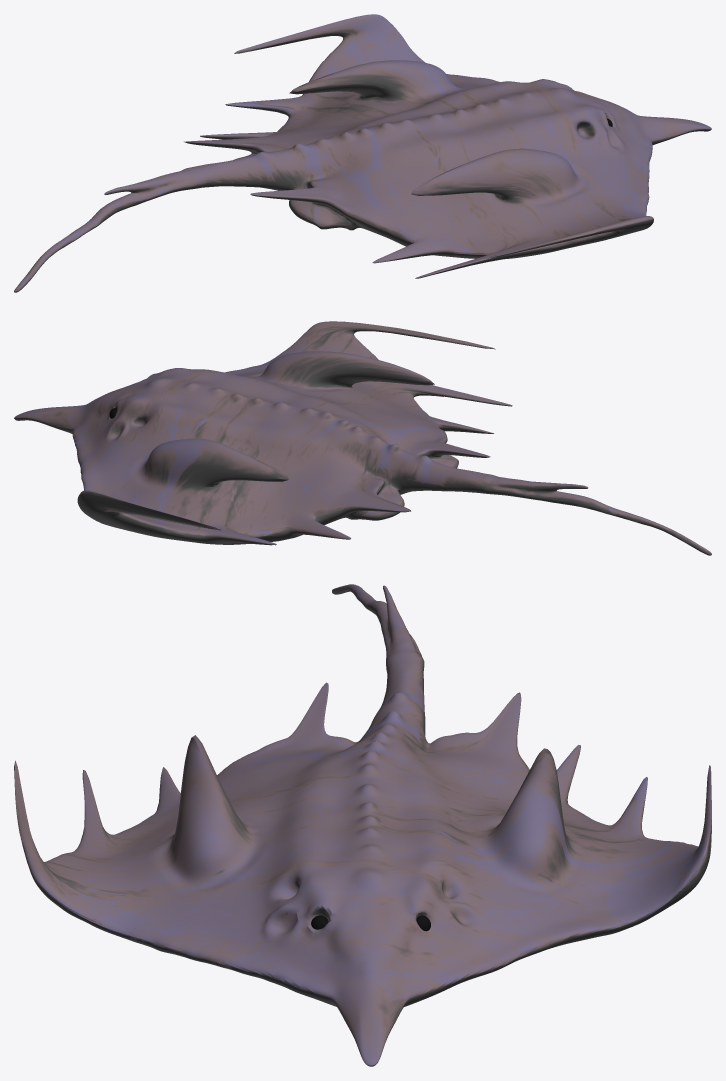
Rendered from stylized-mutant-stingray.glb.
The picture shows the model from 3 angles, top to bottom: view 1: azimuth 30°, elevation 25°; view 2: azimuth 150°, elevation 25°; view 3: azimuth 270°, elevation 25°; orthographic projection. The views are drawn at different scales.
Parts seen in each view (by area): view 1: StingrayMutant; view 2: StingrayMutant; view 3: StingrayMutant.
Part boxes in pixels (x1,y1,x2,y2): StingrayMutant: (14, 14, 711, 292); StingrayMutant: (14, 321, 711, 555); StingrayMutant: (14, 584, 711, 1066).
Size of the model in its own units: 2.3 by 0.3246 by 1.51.
2 materials, 1 textured.
